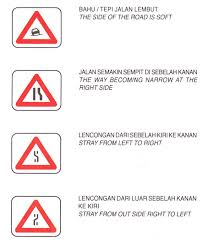Narrow_road: (13, 72, 61, 108)
